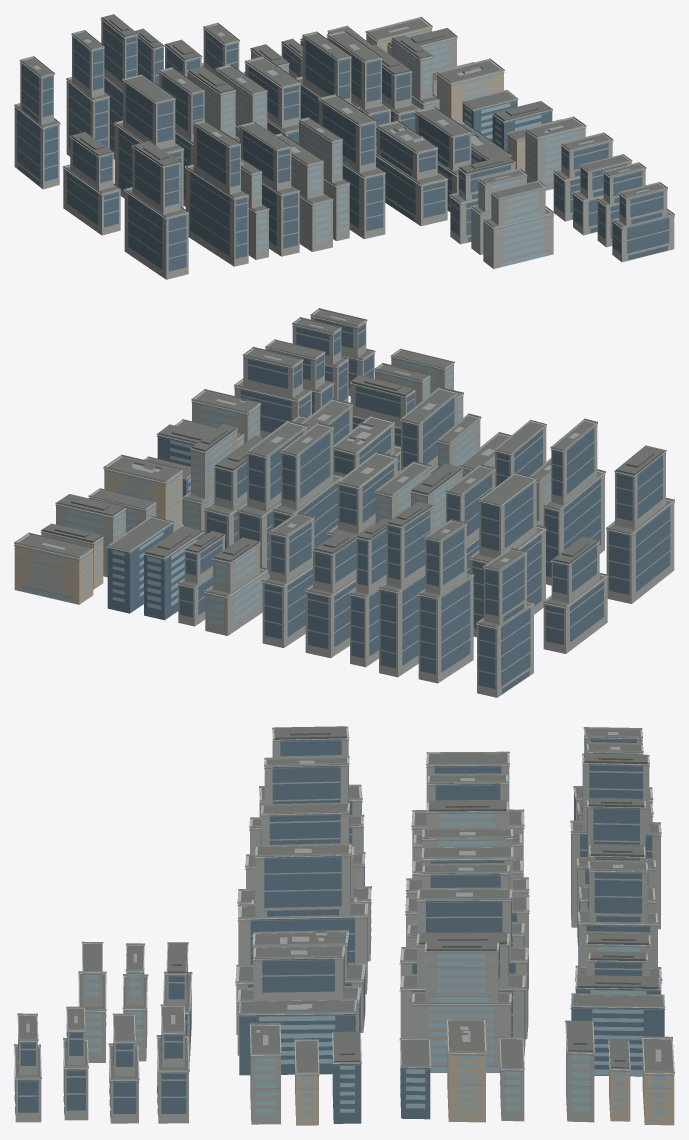
File: tile-p000-m002.glb
The picture shows the model from 3 angles, top to bottom: view 1: azimuth 30°, elevation 25°; view 2: azimuth 150°, elevation 25°; view 3: azimuth 270°, elevation 25°; orthographic projection. The views are drawn at different scales.
Parts seen in each view (by area): view 1: building-0641-mesh-35, building-0580-mesh-1, building-0588-mesh-23, building-0706-mesh-220, building-0709-mesh-255, building-0641-mesh-34, building-0647-mesh-112, building-0580-mesh-0, building-0712-mesh-291, building-0580-mesh-7, building-0646-mesh-100, building-0646-mesh-94 (+110 smaller); view 2: building-0652-mesh-164, building-0580-mesh-1, building-0588-mesh-23, building-0770-mesh-451, building-0653-mesh-176, building-0641-mesh-35, building-0719-mesh-357, building-0647-mesh-112, building-0712-mesh-291, building-0656-mesh-209, building-0655-mesh-198, building-0580-mesh-7 (+89 smaller); view 3: building-0646-mesh-100, building-0711-mesh-278, building-0719-mesh-357, building-0715-mesh-319, building-0641-mesh-41, building-0710-mesh-273, building-0713-mesh-303, building-0715-mesh-325, building-0766-mesh-430, building-0656-mesh-215, building-0643-mesh-65, building-0646-mesh-99 (+72 smaller).
Part boxes in pixels (left/top/right/bottom): building-0641-mesh-35: left=190, top=172, right=247, bottom=258; building-0580-mesh-1: left=128, top=194, right=186, bottom=271; building-0588-mesh-23: left=17, top=109, right=57, bottom=185; building-0706-mesh-220: left=483, top=208, right=553, bottom=268; building-0709-mesh-255: left=376, top=157, right=445, bottom=221; building-0641-mesh-34: left=185, top=166, right=248, bottom=266; building-0647-mesh-112: left=126, top=83, right=173, bottom=142; building-0580-mesh-0: left=124, top=189, right=188, bottom=279; building-0712-mesh-291: left=305, top=39, right=349, bottom=98; building-0580-mesh-7: left=135, top=149, right=178, bottom=206; building-0646-mesh-100: left=322, top=103, right=374, bottom=165; building-0646-mesh-94: left=342, top=165, right=383, bottom=231; building-0652-mesh-164: left=420, top=578, right=470, bottom=674; building-0580-mesh-1: left=609, top=505, right=670, bottom=594; building-0588-mesh-23: left=478, top=607, right=530, bottom=693; building-0770-mesh-451: left=14, top=535, right=93, bottom=604; building-0653-mesh-176: left=380, top=575, right=425, bottom=668; building-0641-mesh-35: left=545, top=478, right=600, bottom=576; building-0719-mesh-357: left=107, top=517, right=173, bottom=613; building-0647-mesh-112: left=481, top=483, right=533, bottom=550; building-0712-mesh-291: left=282, top=431, right=330, bottom=501; building-0656-mesh-209: left=264, top=569, right=312, bottom=639; building-0655-mesh-198: left=308, top=581, right=356, bottom=648; building-0580-mesh-7: left=616, top=454, right=662, bottom=520; building-0646-mesh-100: left=264, top=856, right=350, bottom=916; building-0711-mesh-278: left=239, top=1000, right=355, bottom=1075; building-0719-mesh-357: left=571, top=995, right=664, bottom=1076; building-0715-mesh-319: left=412, top=994, right=511, bottom=1072; building-0641-mesh-41: left=272, top=765, right=348, bottom=804; building-0710-mesh-273: left=262, top=953, right=344, bottom=992; building-0713-mesh-303: left=426, top=897, right=511, bottom=946; building-0715-mesh-325: left=425, top=944, right=498, bottom=1001; building-0766-mesh-430: left=447, top=1020, right=485, bottom=1122; building-0656-mesh-215: left=588, top=871, right=641, bottom=922; building-0643-mesh-65: left=269, top=813, right=349, bottom=844; building-0646-mesh-99: left=255, top=845, right=350, bottom=916.
Bounding box in the file's own units: 246 × 72.85 × 261.
